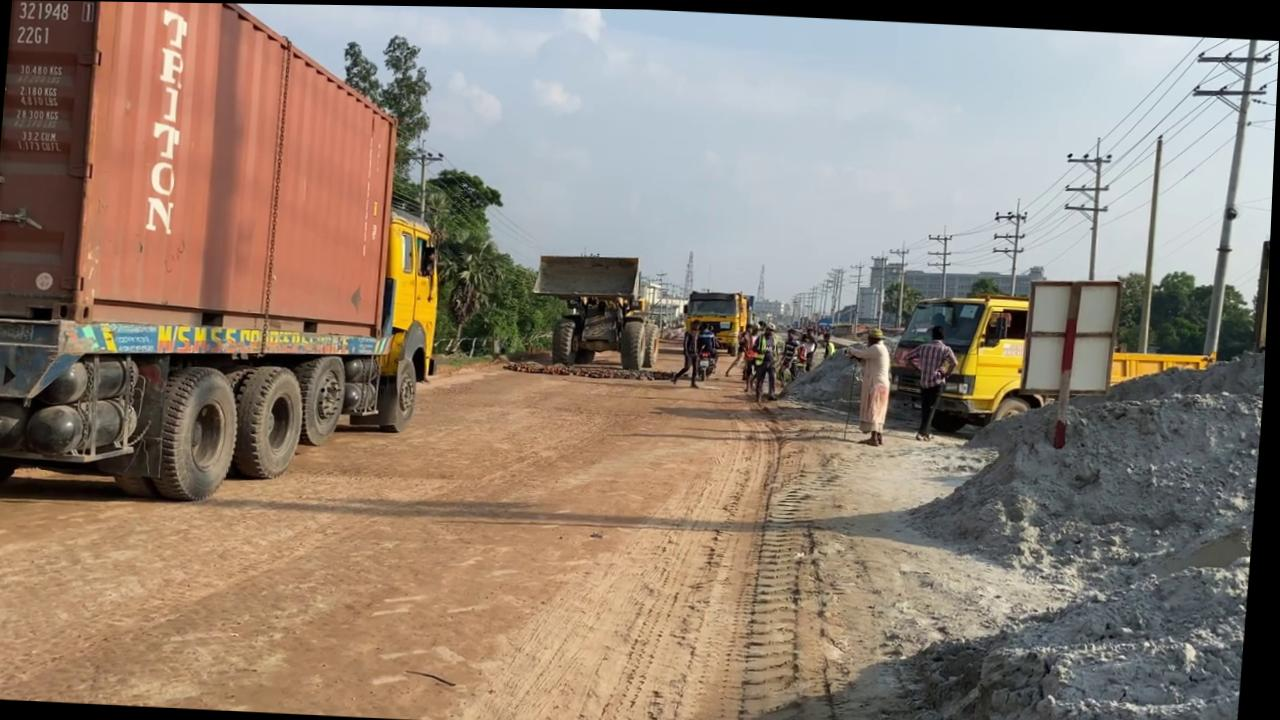Pole: (1204, 35, 1259, 357), (1139, 129, 1166, 350)
Traffic-sign: (334, 28, 437, 183)
Tree: (0, 0, 465, 512), (888, 271, 1224, 441), (887, 284, 1053, 433), (528, 249, 669, 370), (682, 286, 756, 354)
